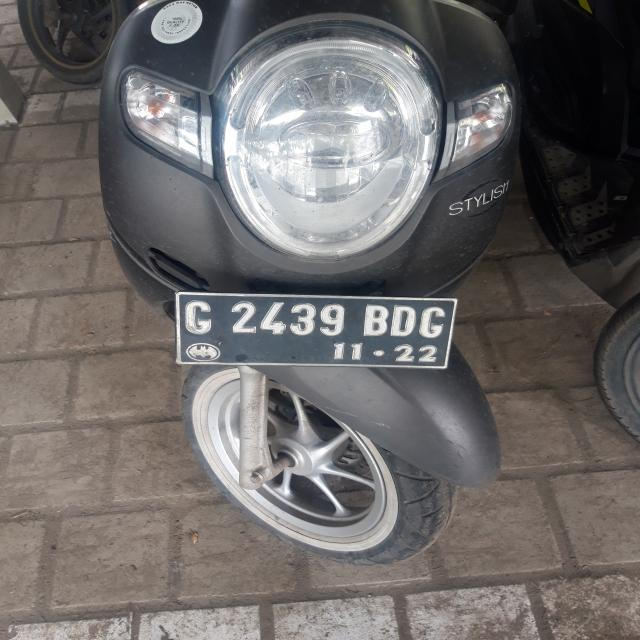plate: (174, 292, 451, 368)
